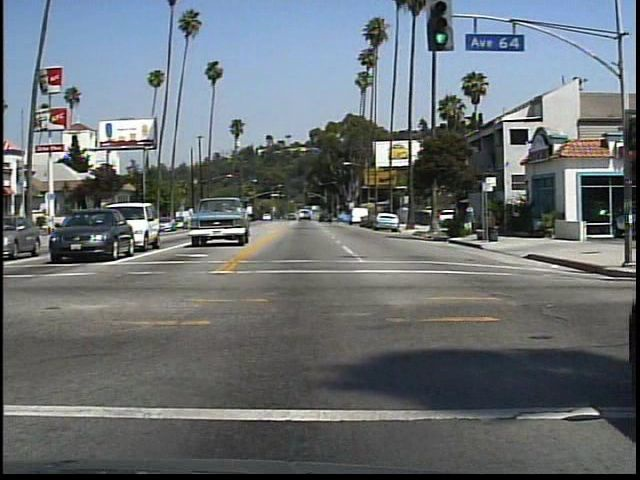person: (462, 202, 478, 239)
